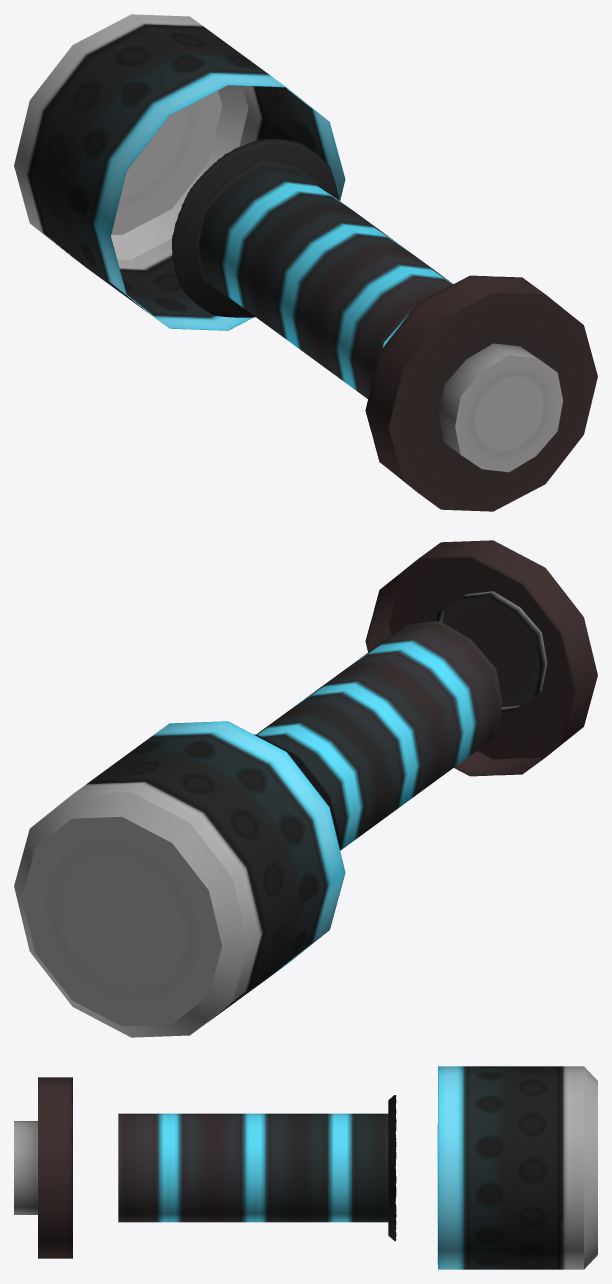
File: obj_interactive_suspensionoffroad_05_off.fbx
3 renders of one model, top to bottom at view 1: azimuth 30°, elevation 25°; view 2: azimuth 150°, elevation 25°; view 3: azimuth 270°, elevation 25°, orthographic. The views are drawn at different scales.
Parts seen in each view (by area): view 1: obj_interactive_suspensionoffroad_05_off; view 2: obj_interactive_suspensionoffroad_05_off; view 3: obj_interactive_suspensionoffroad_05_off.
Part boxes in pixels (bbox=[...]): obj_interactive_suspensionoffroad_05_off: bbox=[14, 14, 597, 511]; obj_interactive_suspensionoffroad_05_off: bbox=[14, 540, 597, 1037]; obj_interactive_suspensionoffroad_05_off: bbox=[14, 1066, 597, 1269].
Size of the model in its own units: 1.09 by 1.09 by 3.13.
